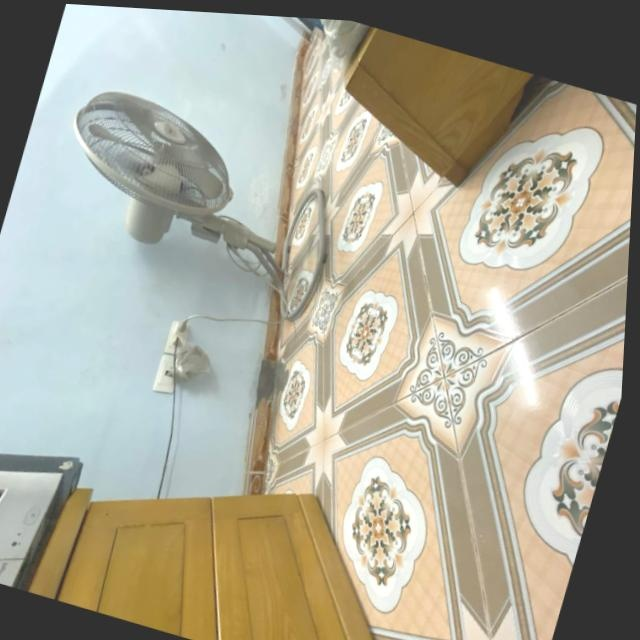outlet: (152, 351, 184, 397), (162, 316, 192, 358)
